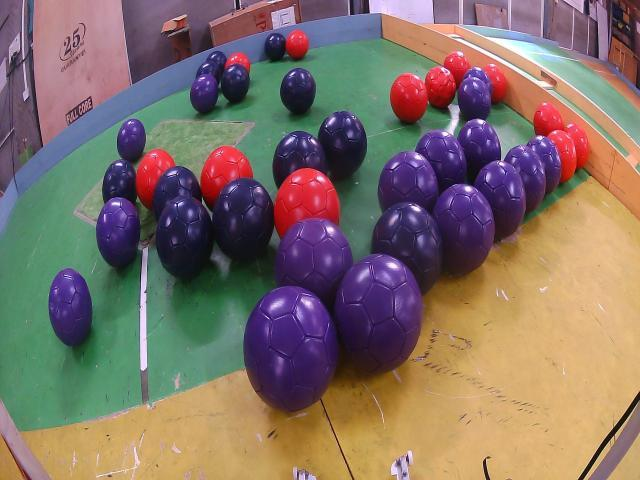jambhalya: (244, 287, 338, 412), (334, 253, 422, 373), (275, 217, 352, 312), (432, 183, 495, 273), (474, 160, 526, 238), (378, 152, 439, 212), (49, 268, 92, 345), (415, 130, 466, 192), (96, 197, 140, 267), (458, 118, 501, 182), (505, 145, 546, 211), (528, 135, 561, 192), (458, 77, 491, 120), (118, 118, 146, 162), (190, 73, 219, 113), (464, 67, 492, 95)
kaalyya: (371, 202, 442, 294), (212, 177, 274, 260), (155, 195, 214, 280), (318, 110, 368, 178), (272, 130, 328, 188), (152, 165, 202, 220), (102, 158, 138, 205), (280, 68, 316, 115), (221, 63, 250, 102), (265, 33, 286, 62), (196, 60, 221, 83), (208, 50, 226, 75)
